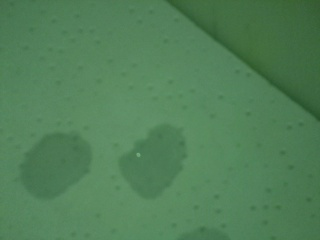Water_detected: (126, 132, 171, 188), (36, 139, 83, 189)
